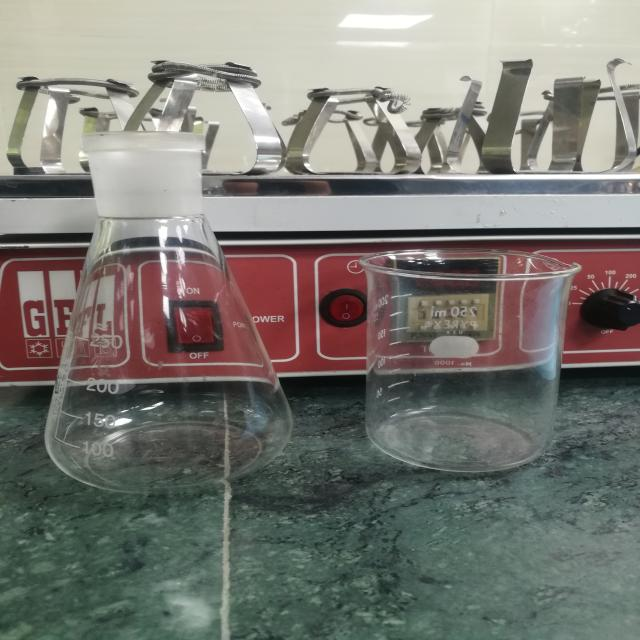Beaker: (338, 220, 611, 496)
Conical_Flask: (24, 116, 306, 518)
